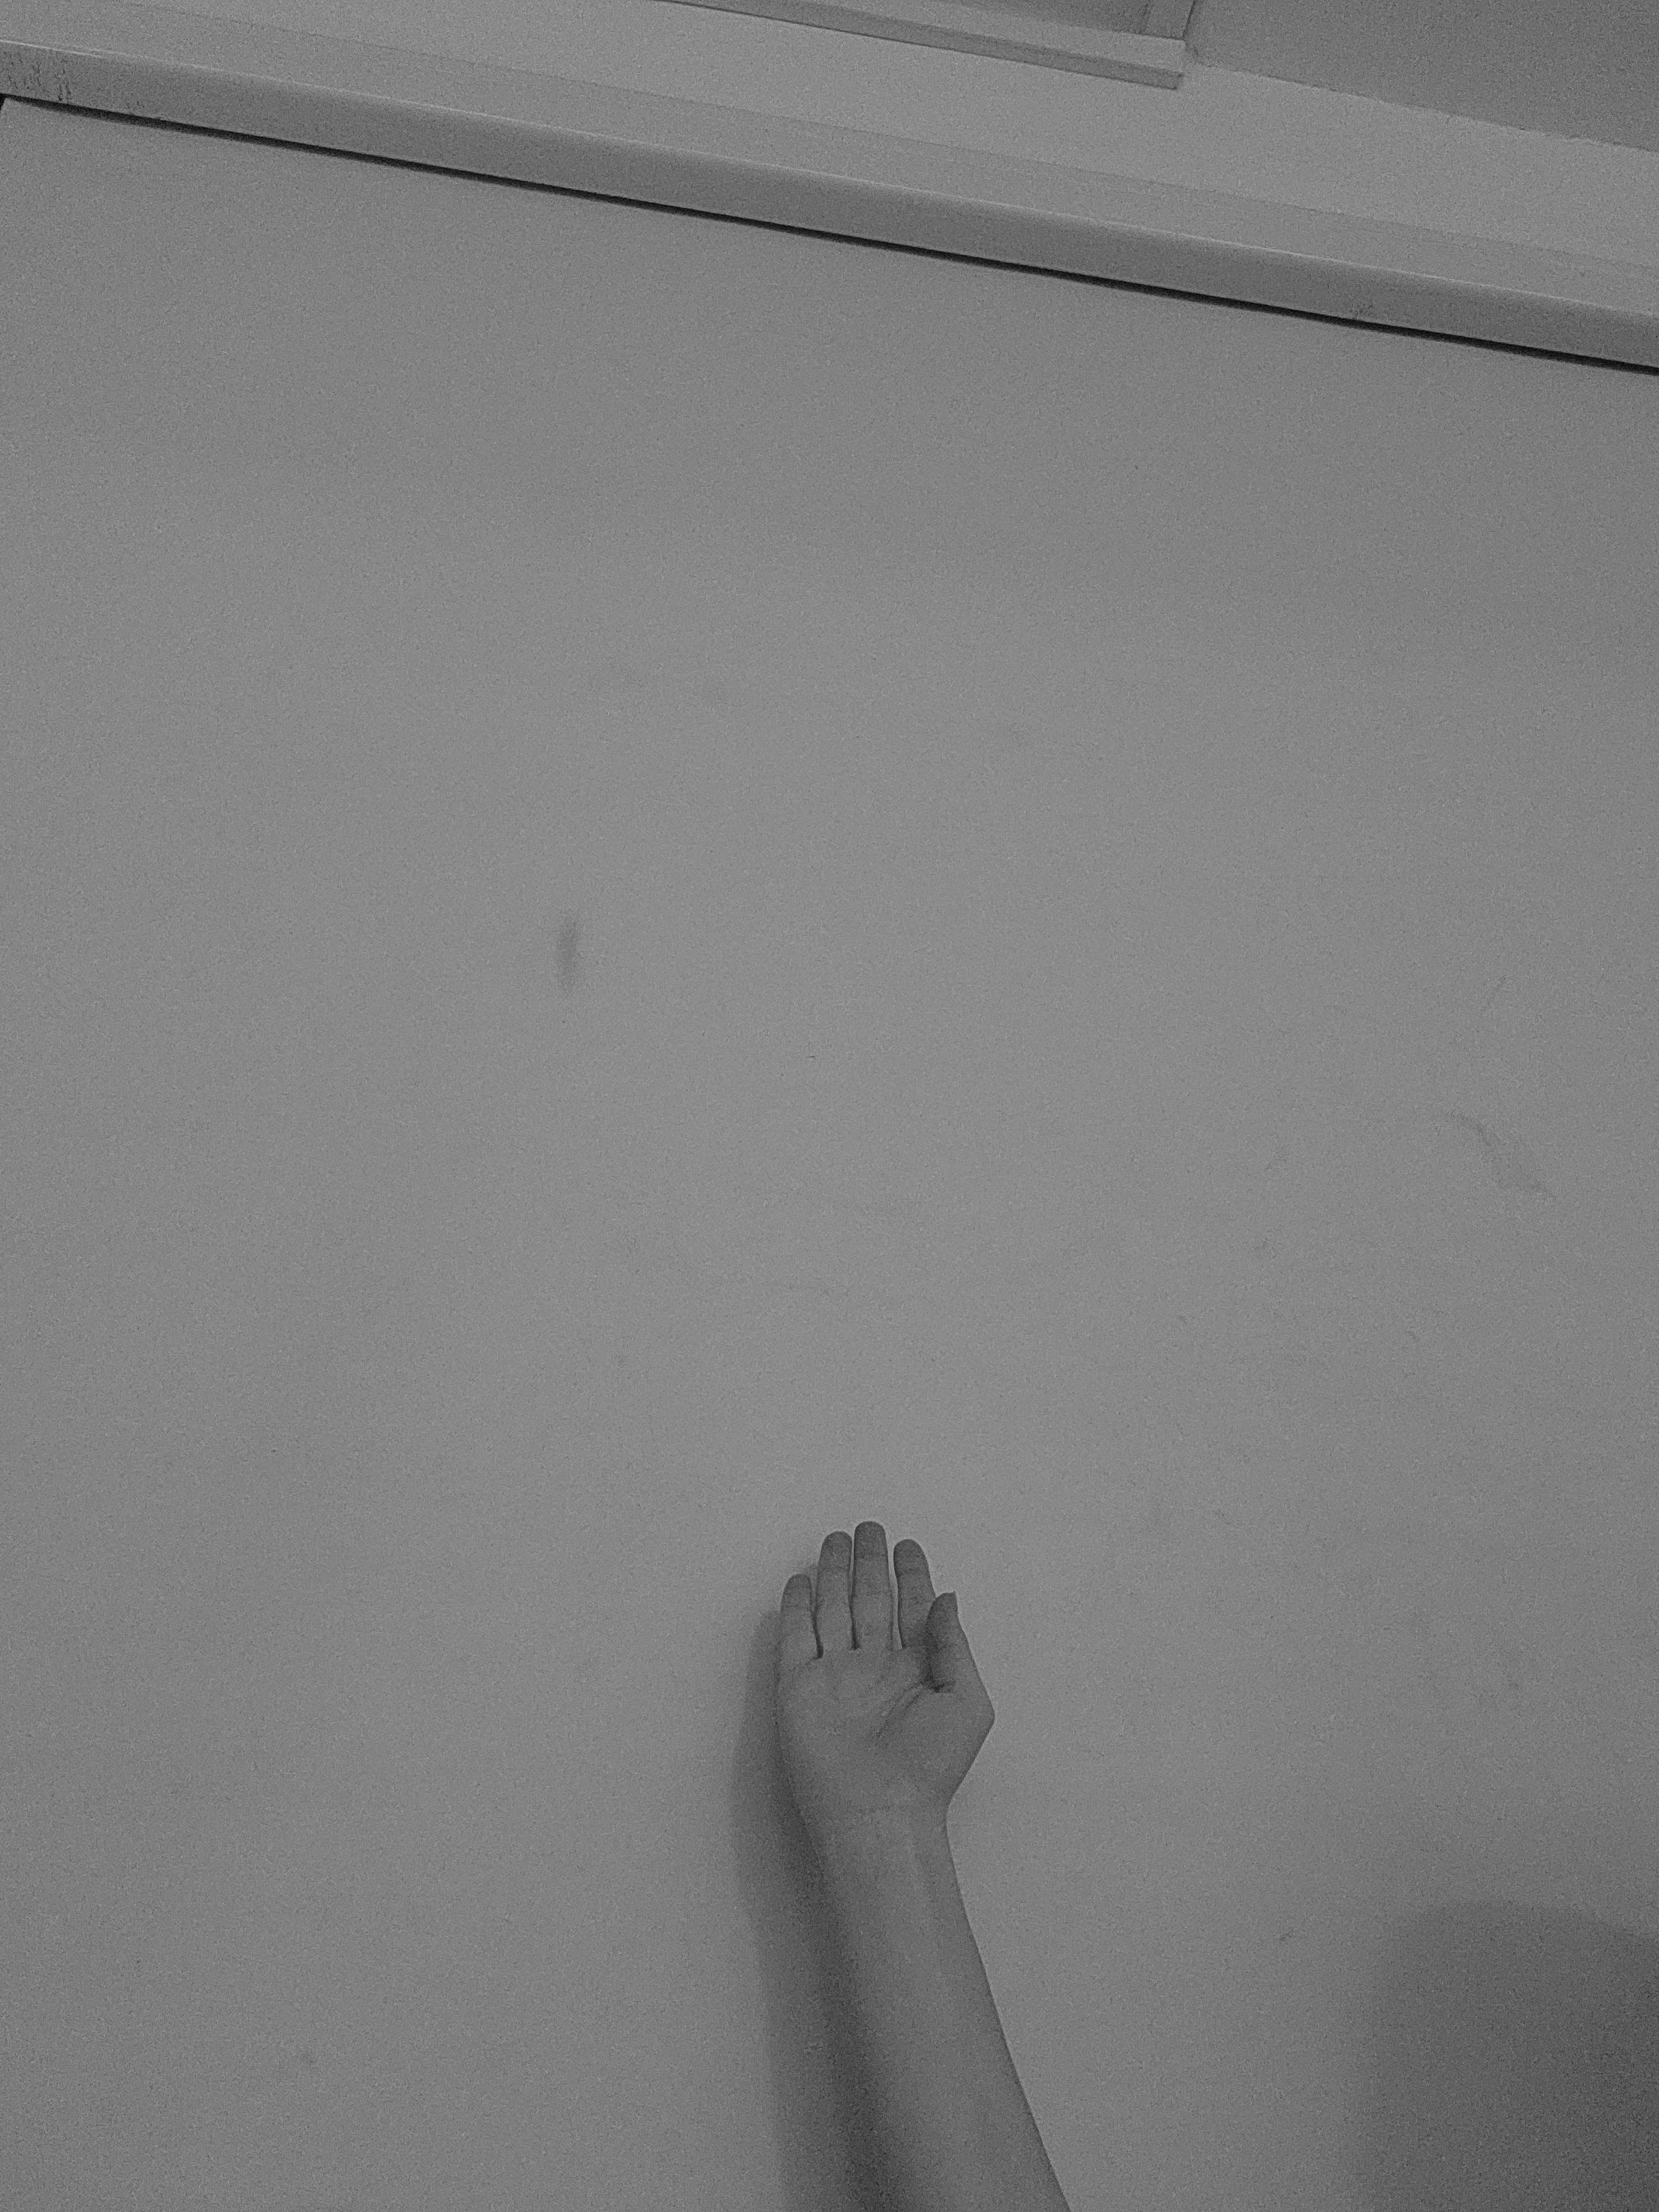pointing_gesture: (767, 1519, 1007, 1860)
